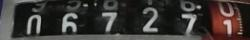digits: (214, 1, 235, 40), (99, 8, 119, 38), (142, 7, 158, 31), (61, 12, 78, 32), (180, 13, 196, 32), (26, 14, 41, 34)
